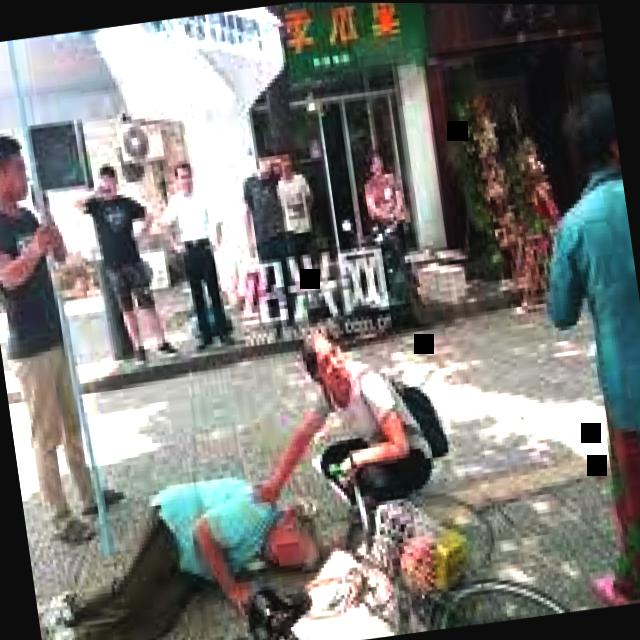Fall-Detected: (18, 433, 345, 640)
